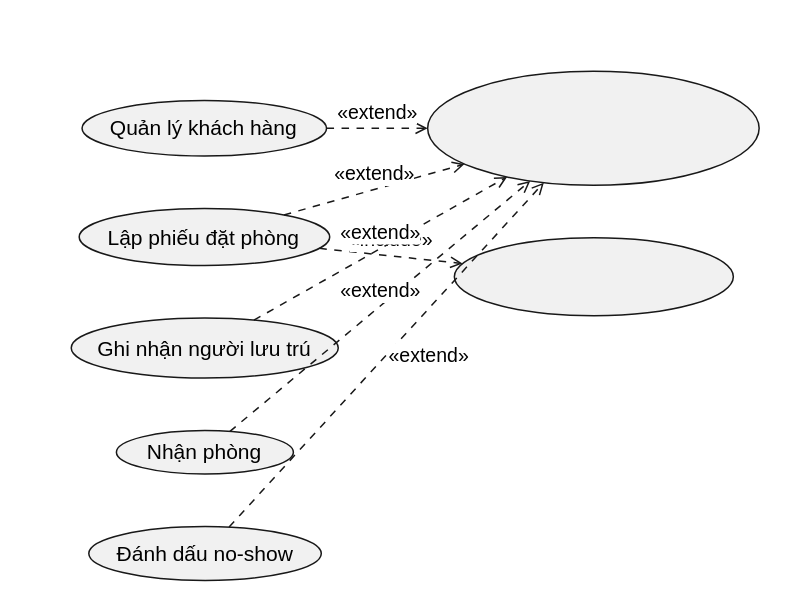
The diagram is 786 pixels wide and 606 high, and some of its shapes have lost their labels. Each missing label, with the centre of its shape:
"Kiểm tra sức chứa, trùng lịch" belongs at (593,276).
"Đặt - nhận phòng (from Use Case View)" belongs at (592,127).
